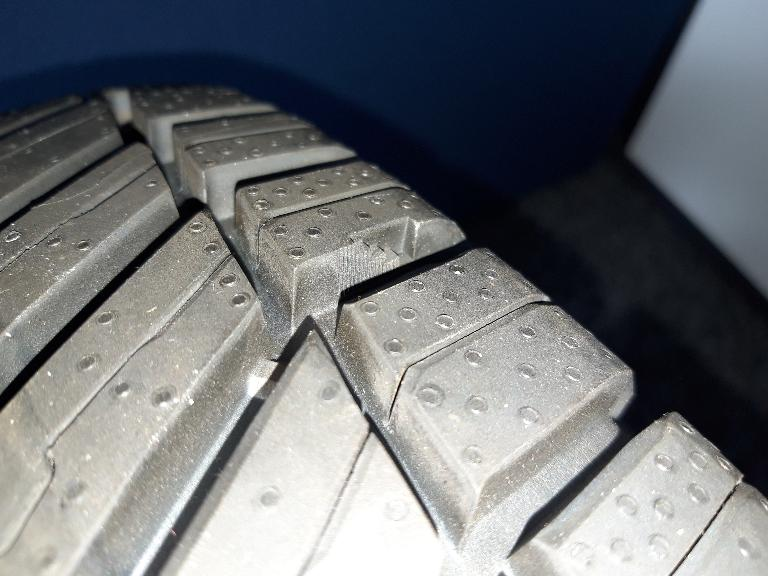temoin:100: (337, 216, 422, 303)
